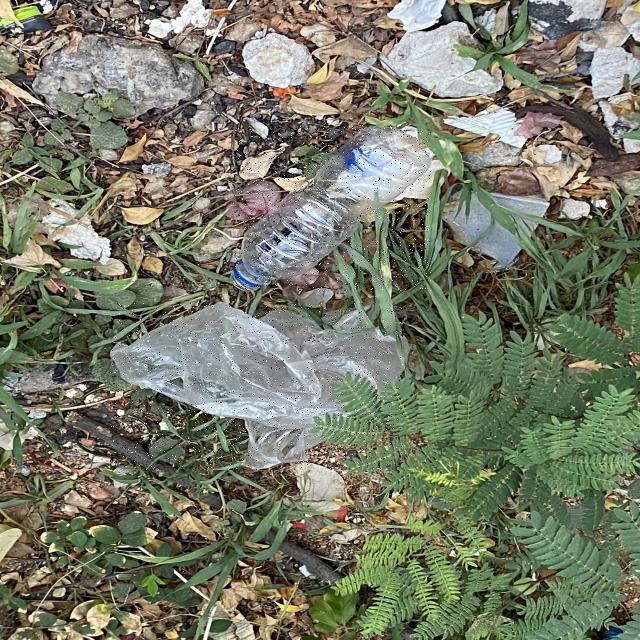plastic: (110, 303, 403, 469), (234, 125, 431, 291)
